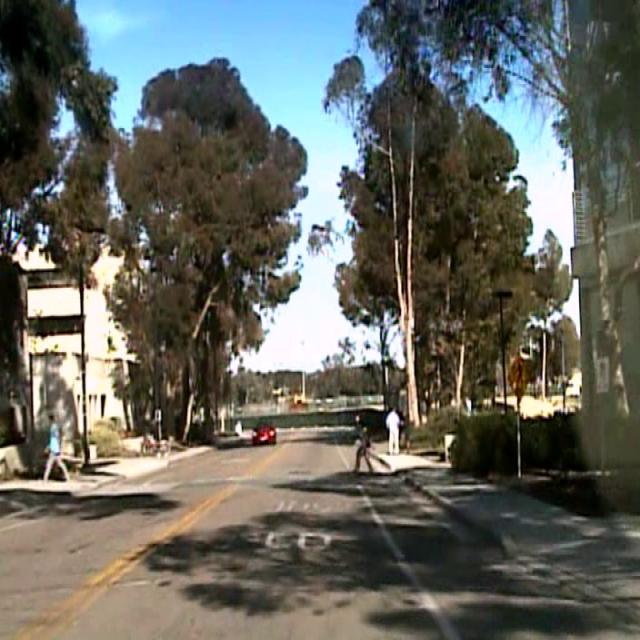pedestrianCrossing: (506, 352, 531, 399)
